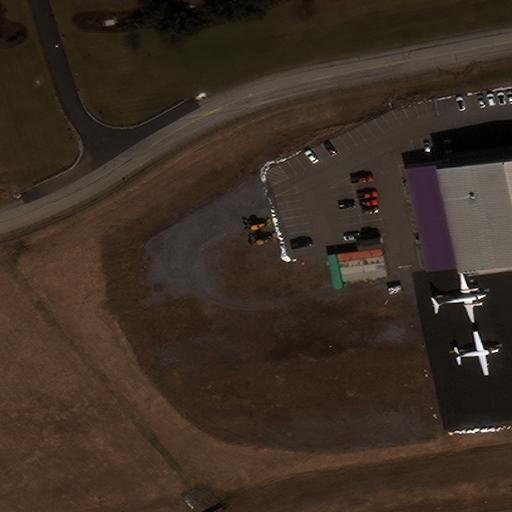Medium Civil Transport: (431, 272, 486, 323), (451, 330, 499, 375)
